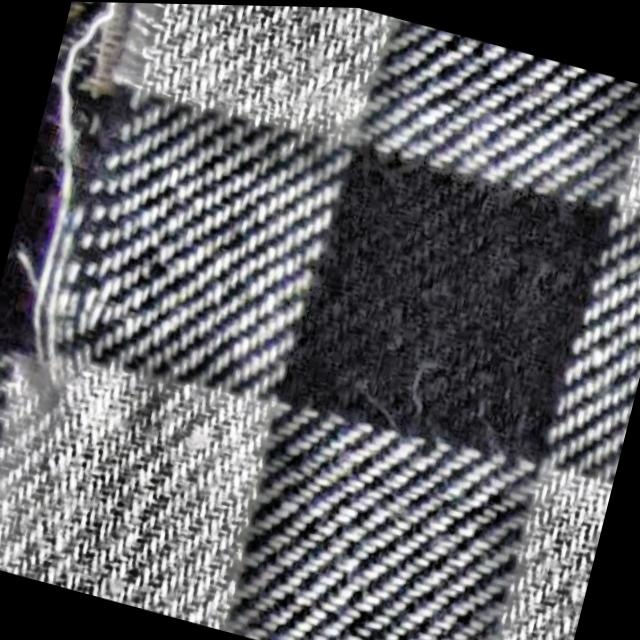Stitch: (0, 0, 210, 442)
